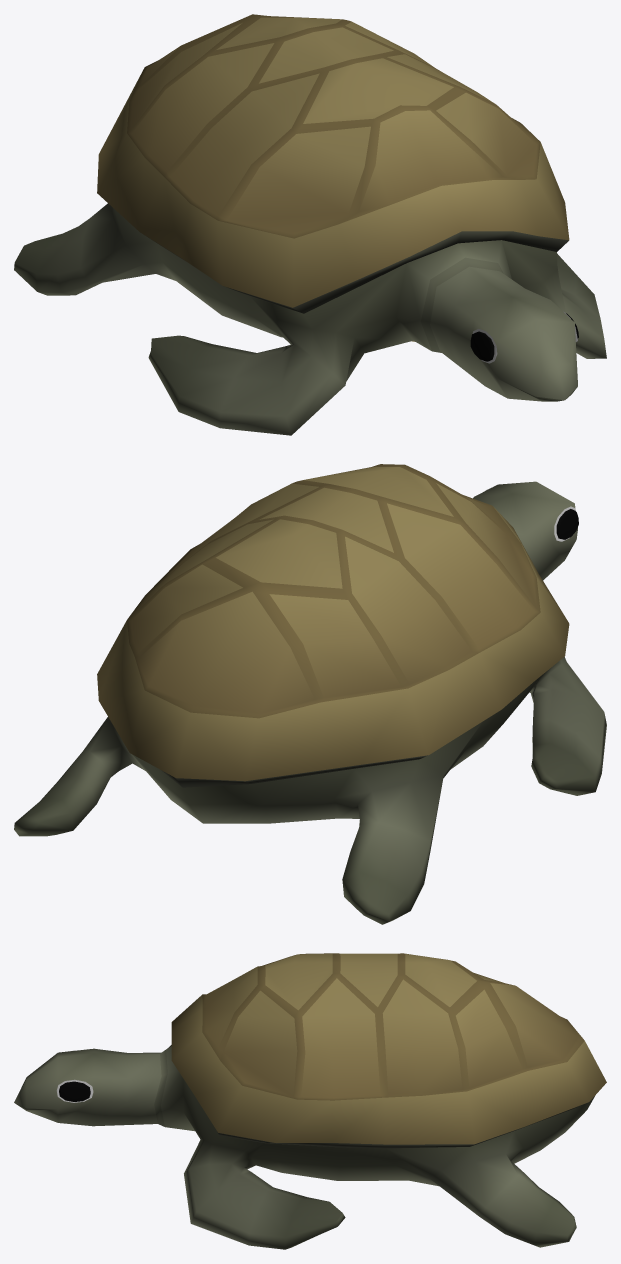
3 views of the same model, one above another, from view 1: azimuth 30°, elevation 25°; view 2: azimuth 150°, elevation 25°; view 3: azimuth 270°, elevation 25° (orthographic). The views are drawn at different scales.
Visible parts, largest first — view 1: base.773; view 2: base.773; view 3: base.773.
Part boxes in pixels (x1=…): base.773: x1=14, y1=14, x2=606, y2=435; base.773: x1=14, y1=464, x2=606, y2=924; base.773: x1=14, y1=953, x2=606, y2=1249.
Bounding box in the file's own units: 0.3094 × 0.2053 × 0.5.
